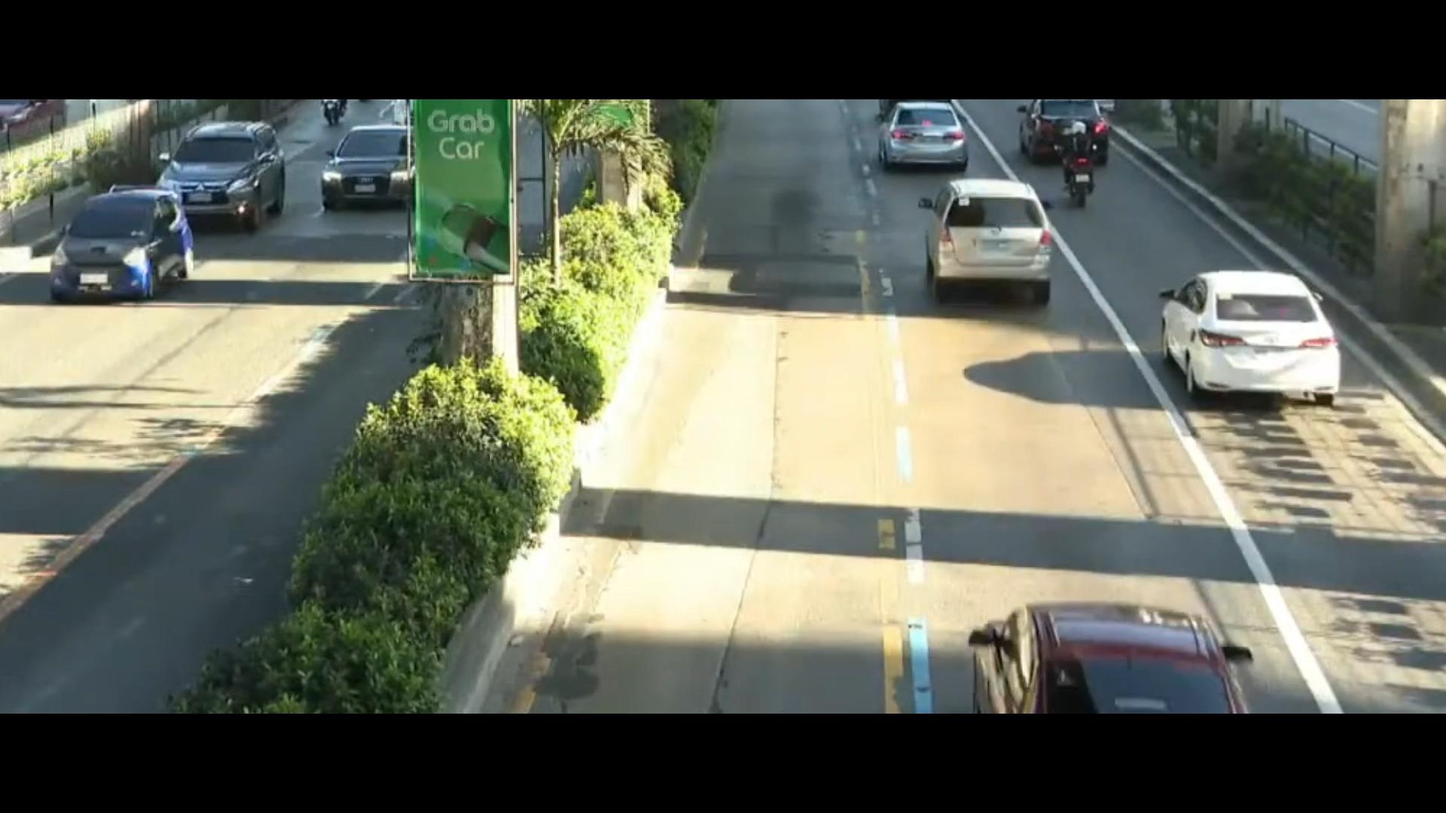Motorcycle: (1042, 112, 1113, 207)
SUV: (968, 548, 1262, 705), (893, 157, 1067, 313), (162, 108, 290, 246)
Sedan: (1149, 247, 1338, 434), (46, 177, 191, 303), (311, 124, 423, 224), (870, 100, 977, 167), (1015, 104, 1126, 158)
